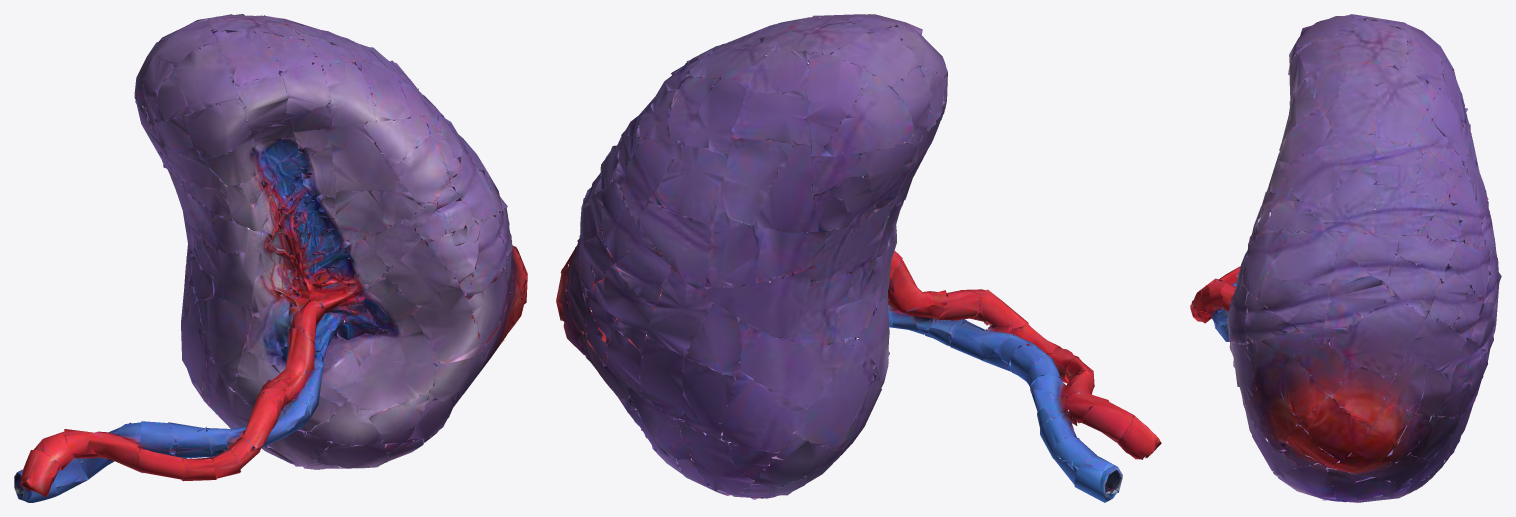
The model's file is bazo-imflamado.glb.
The picture shows the model from 3 angles, left to right: view 1: azimuth 30°, elevation 25°; view 2: azimuth 150°, elevation 25°; view 3: azimuth 270°, elevation 25°; orthographic projection. The views are drawn at different scales.
Parts seen in each view (by area): view 1: BazoImflamado; view 2: BazoImflamado; view 3: BazoImflamado.
Boxes of the visible parts, box(x1,y1,x2,y2) form: BazoImflamado: box(14, 14, 527, 502); BazoImflamado: box(556, 14, 1161, 502); BazoImflamado: box(1190, 14, 1501, 502).
Bounding box in the file's own units: 2.01 × 1.67 × 1.12.
1 material, 1 textured.
